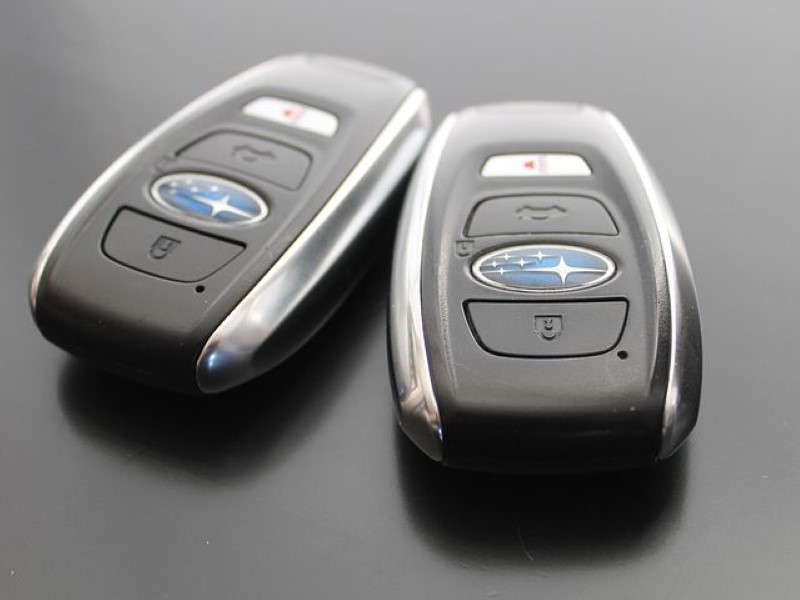carkey: (24, 38, 442, 401), (380, 96, 707, 471)
